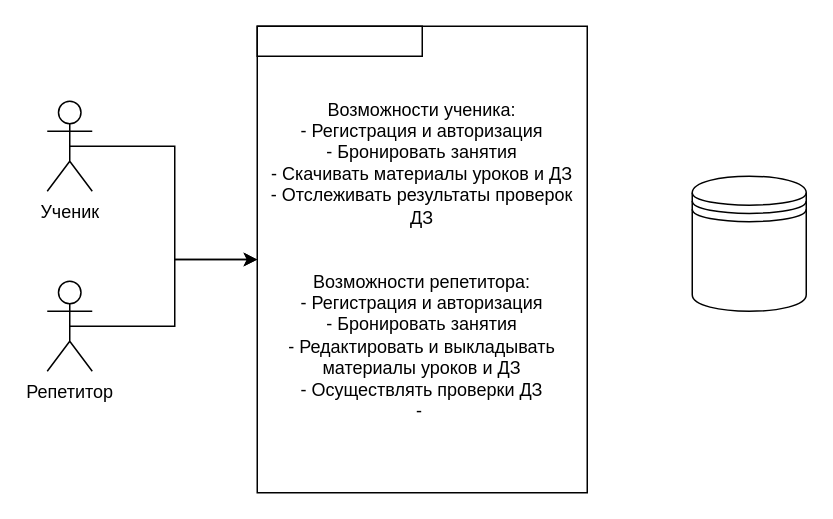
Image size: 833x519. Some labels were removed from this diagram. The box of each missing label's shape, as (x1, y1, x2, y2) in pixels:
PostgreSQL: (691, 175, 806, 311)
Сервис: (256, 25, 422, 56)
